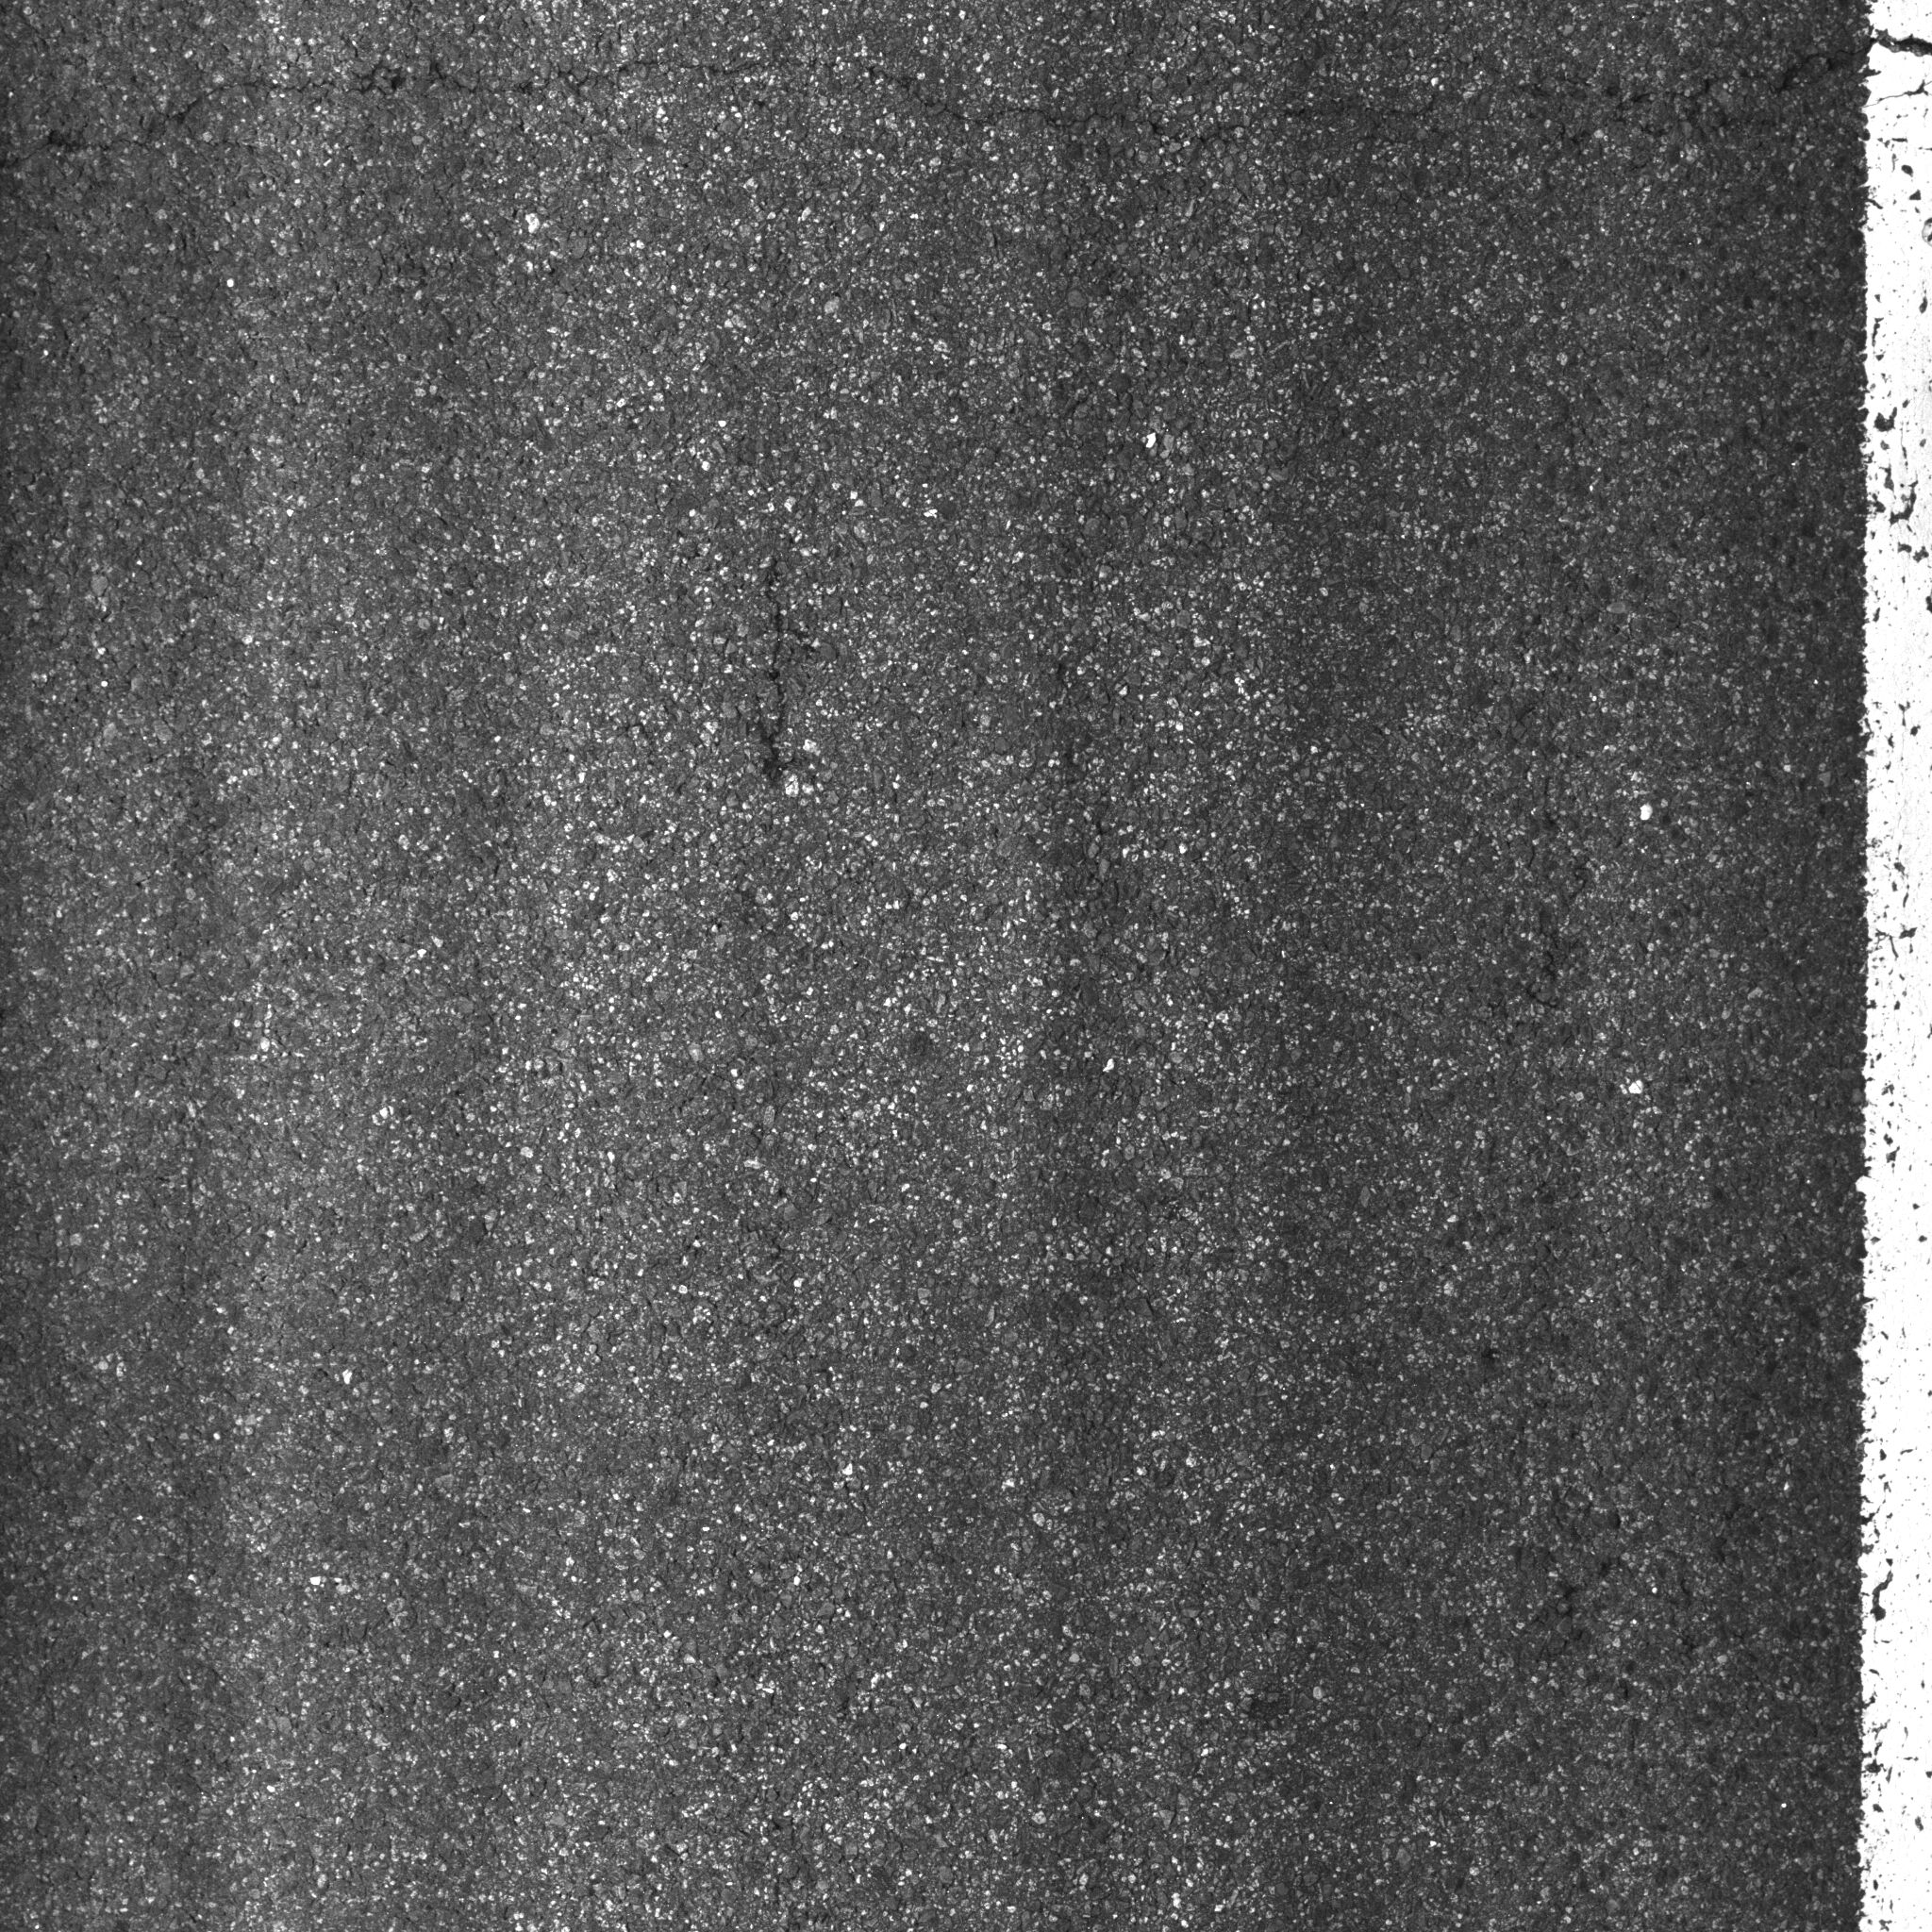transeverse: (27, 27, 1895, 163)
